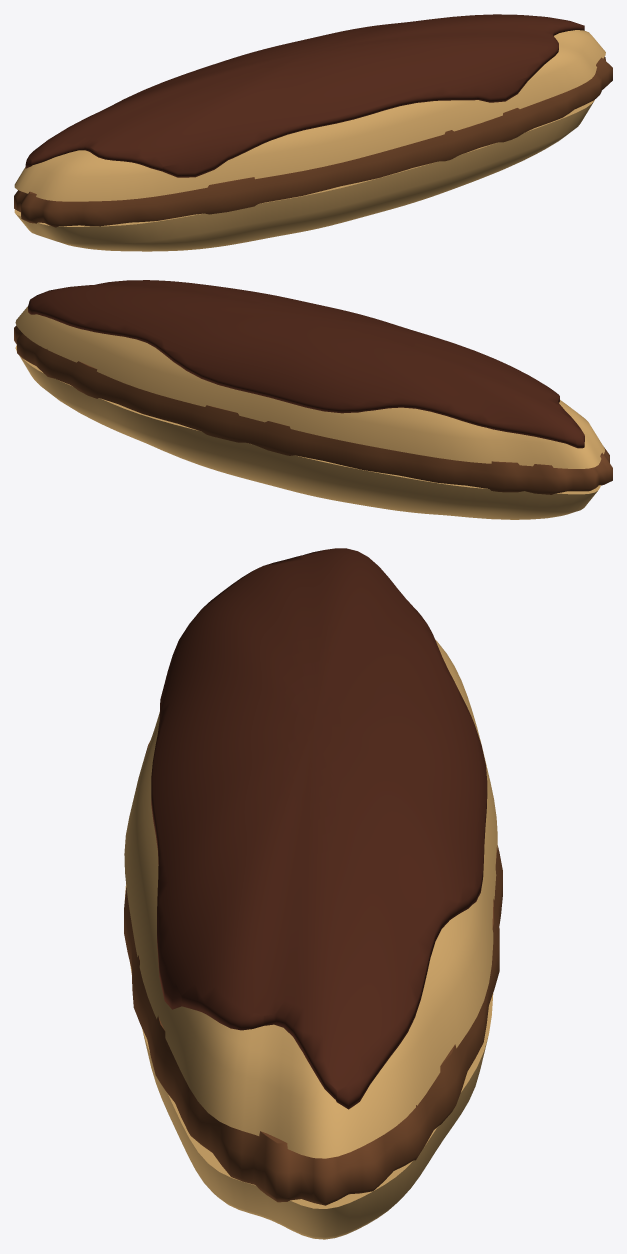
3 renders of one model, top to bottom at view 1: azimuth 30°, elevation 25°; view 2: azimuth 150°, elevation 25°; view 3: azimuth 270°, elevation 25°, orthographic. The views are drawn at different scales.
Parts seen in each view (by area): view 1: Thick glaze with scalloped dripping edge, Upper choux shell, Lower choux shell, Visible piped filling band; view 2: Thick glaze with scalloped dripping edge, Upper choux shell, Lower choux shell, Visible piped filling band; view 3: Thick glaze with scalloped dripping edge, Upper choux shell, Visible piped filling band, Lower choux shell.
Part boxes in pixels (x1,y1,x2,y2): Thick glaze with scalloped dripping edge: (25, 14, 584, 177); Upper choux shell: (14, 30, 605, 201); Lower choux shell: (14, 100, 594, 251); Visible piped filling band: (14, 57, 612, 227); Thick glaze with scalloped dripping edge: (28, 280, 584, 448); Upper choux shell: (15, 306, 604, 468); Lower choux shell: (15, 345, 600, 519); Visible piped filling band: (14, 325, 612, 494); Thick glaze with scalloped dripping edge: (151, 548, 487, 1109); Upper choux shell: (124, 640, 497, 1158); Visible piped filling band: (124, 741, 502, 1205); Lower choux shell: (124, 884, 493, 1239).
Size of the model in its own units: 0.1836 by 0.049 by 0.051.
